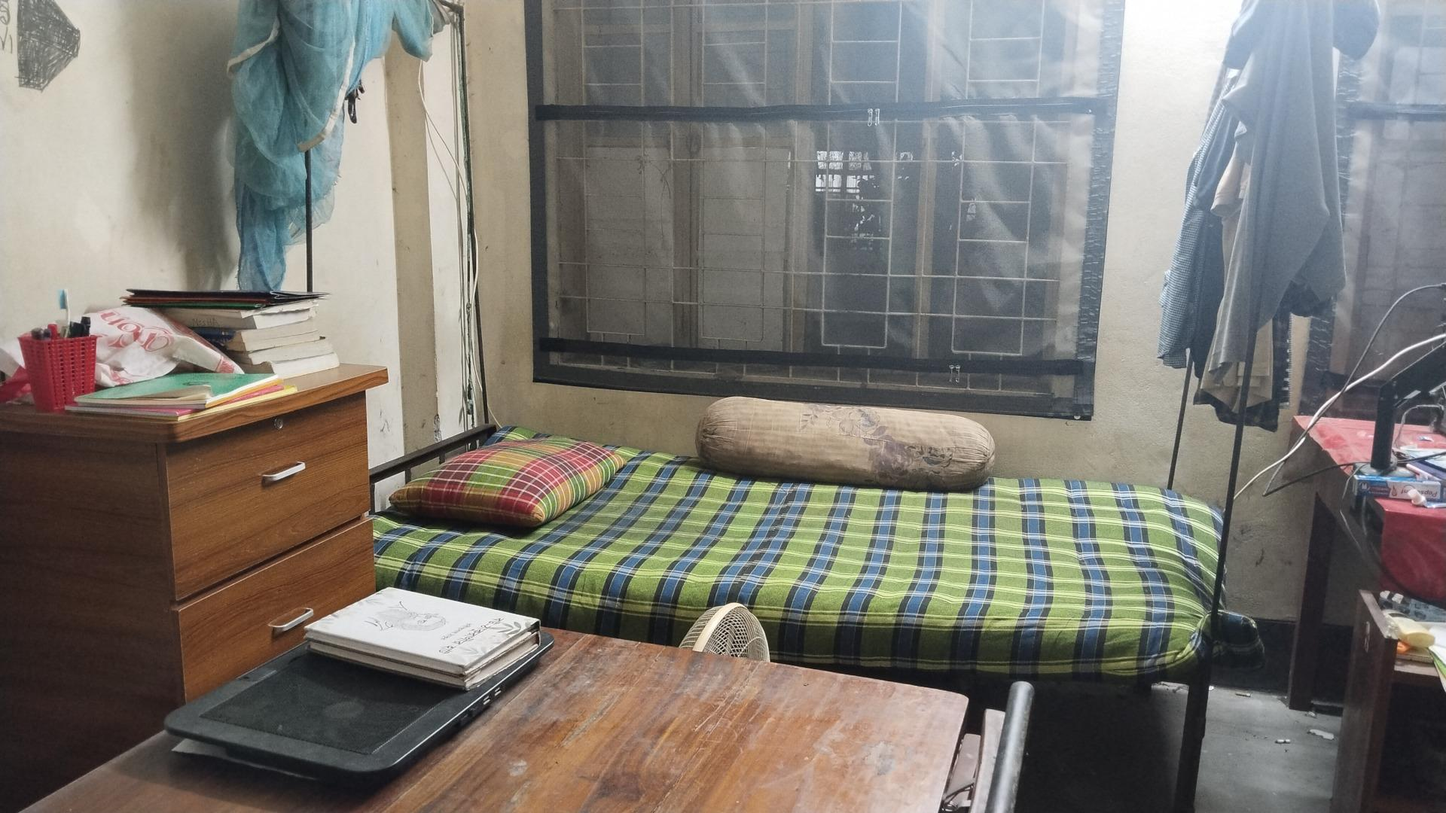Book: (312, 584, 541, 671)
Pen Stand: (21, 329, 96, 413)
Pillow: (695, 398, 998, 485), (402, 432, 621, 519)
Window: (924, 1, 1078, 362), (541, 0, 689, 347), (691, 3, 808, 359), (808, 2, 924, 353)
